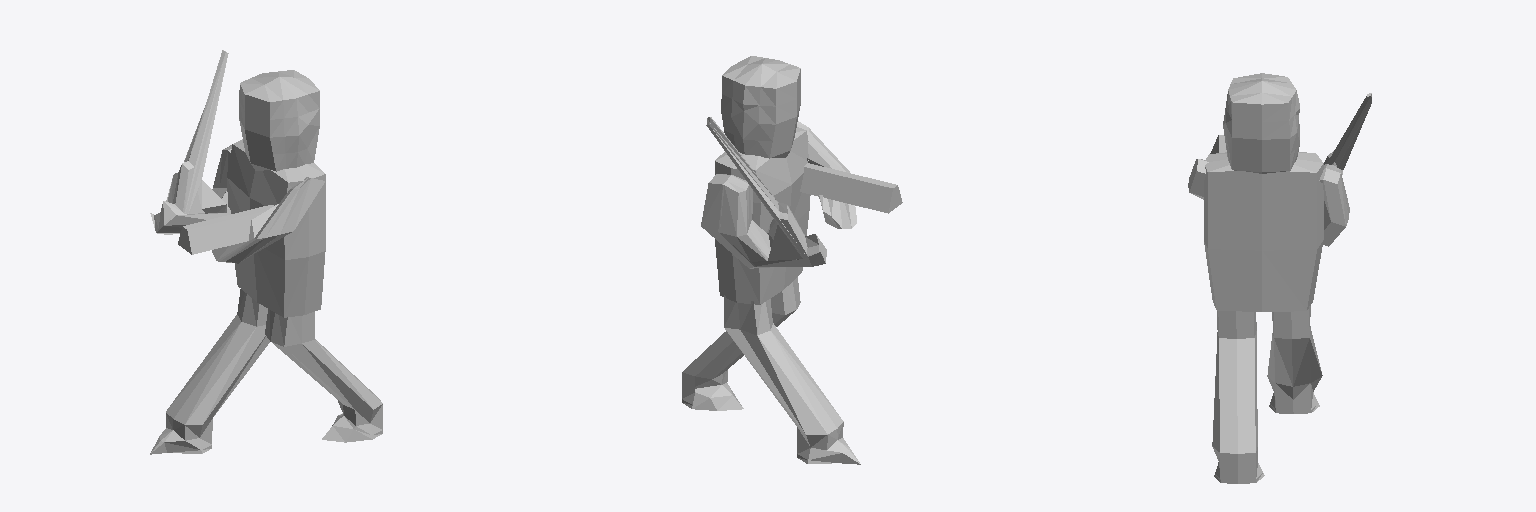
File: ogre.obj
3 renders of one model, left to right at view 1: azimuth 30°, elevation 25°; view 2: azimuth 150°, elevation 25°; view 3: azimuth 270°, elevation 25°, orthographic.
Visible parts, largest first — view 1: BODY_cube.002, leg1_cube, HEAD_cube.001, leg2_cube.003, hand, BODY.001_cube.004, launcher; view 2: leg1_cube, hand, HEAD_cube.001, BODY_cube.002, leg2_cube.003, launcher, BODY.001_cube.004; view 3: BODY_cube.002, leg2_cube.003, HEAD_cube.001, leg1_cube, hand, BODY.001_cube.004.
Part boxes in pixels (left/top/right/bottom): BODY_cube.002: left=227, top=139, right=325, bottom=317; leg1_cube: left=150, top=289, right=269, bottom=454; HEAD_cube.001: left=239, top=70, right=319, bottom=171; leg2_cube.003: left=265, top=309, right=382, bottom=442; hand: left=150, top=50, right=231, bottom=234; BODY.001_cube.004: left=212, top=177, right=324, bottom=263; launcher: left=178, top=205, right=273, bottom=254; leg1_cube: left=724, top=295, right=860, bottom=464; hand: left=701, top=117, right=826, bottom=268; HEAD_cube.001: left=721, top=56, right=800, bottom=158; BODY_cube.002: left=715, top=127, right=810, bottom=304; leg2_cube.003: left=682, top=277, right=800, bottom=410; launcher: left=800, top=163, right=902, bottom=213; BODY.001_cube.004: left=797, top=121, right=856, bottom=228; BODY_cube.002: left=1204, top=152, right=1323, bottom=311; leg2_cube.003: left=1212, top=311, right=1264, bottom=483; HEAD_cube.001: left=1223, top=73, right=1299, bottom=173; leg1_cube: left=1267, top=306, right=1322, bottom=413; hand: left=1319, top=93, right=1371, bottom=246; BODY.001_cube.004: left=1188, top=159, right=1208, bottom=199.
Bounding box in the file's own units: 4.37 × 7.63 × 3.49.